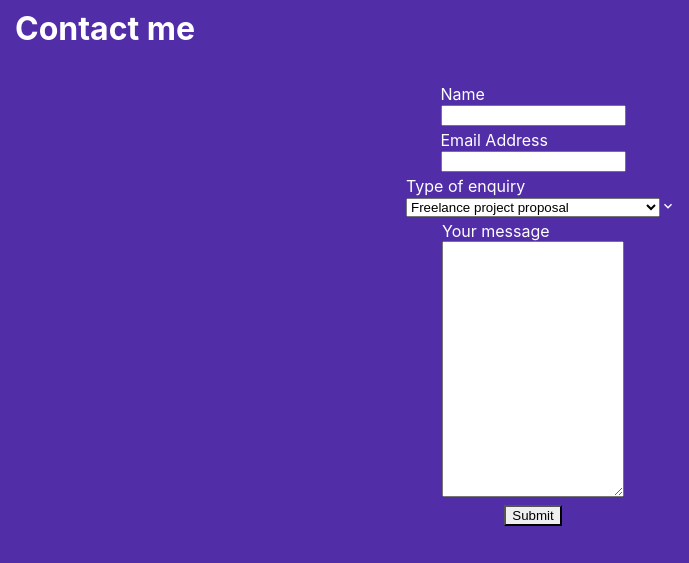
Test: ContactMeSection › Email validation › should show error message when email is invalid
# Enter invalid email
Type "invalidemail" into the field labelled "Email Address" at (533, 161), box [440, 151, 626, 172]
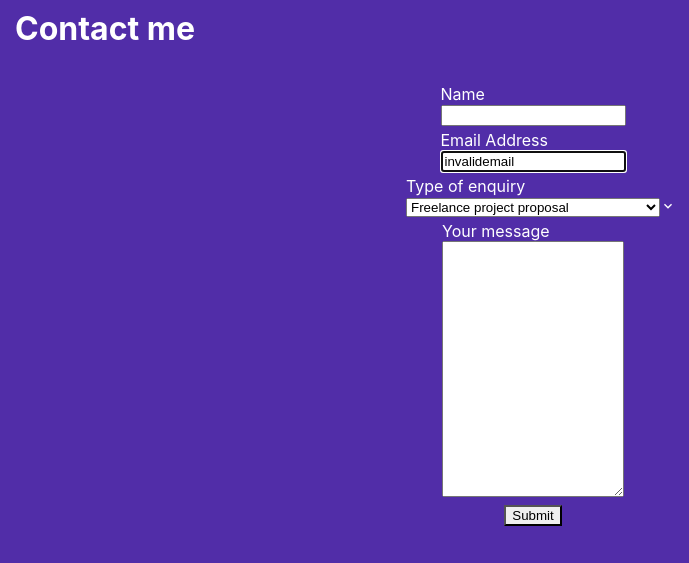
# Try to submit
Click the button "Submit" at (533, 515), box [504, 505, 562, 526]
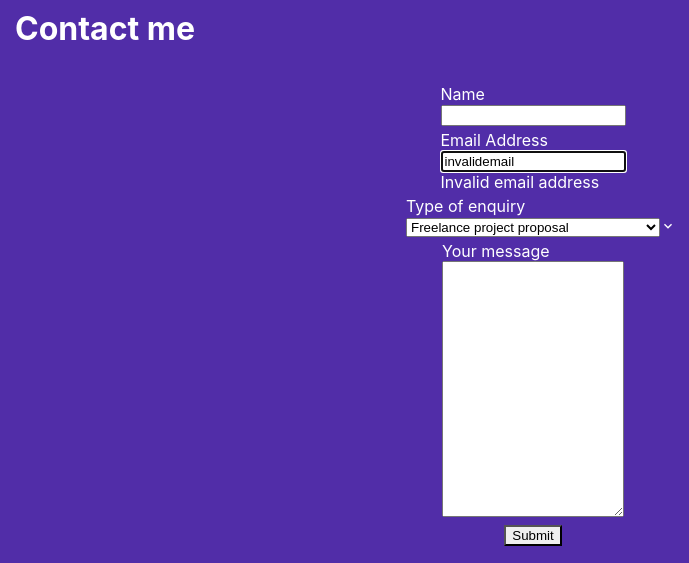
Result: the text "Invalid email address" is shown at [440, 172, 626, 192]
